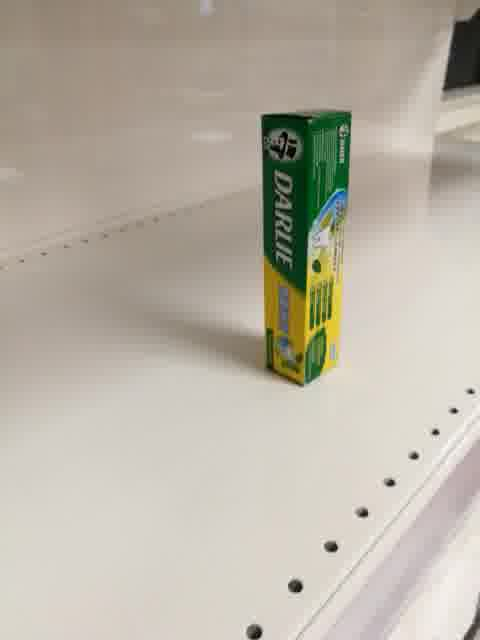toothpaste: (260, 108, 351, 387)
